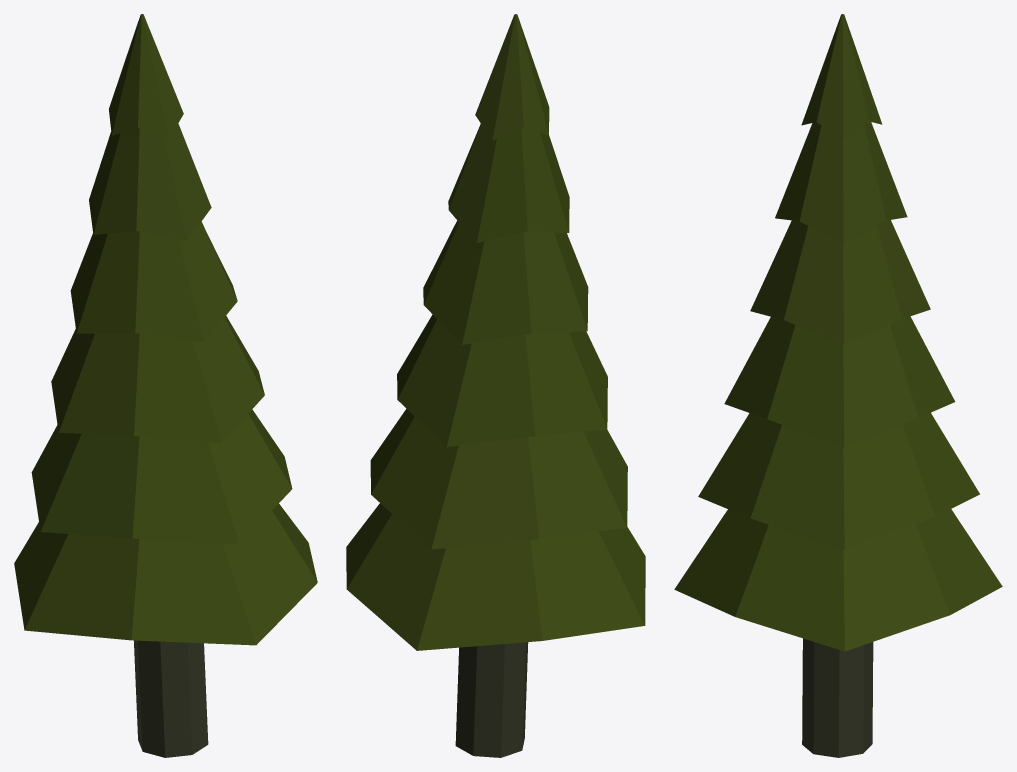
The model's file is tree3.gltf.
The picture shows the model from 3 angles, left to right: view 1: azimuth 30°, elevation 25°; view 2: azimuth 150°, elevation 25°; view 3: azimuth 270°, elevation 25°; orthographic projection. The views are drawn at different scales.
Parts seen in each view (by area): view 1: SapinHiver.015_Cylinder.034; view 2: SapinHiver.015_Cylinder.034; view 3: SapinHiver.015_Cylinder.034.
Boxes of the visible parts, x1,y1,x2,y2 form: SapinHiver.015_Cylinder.034: (14, 14, 317, 757); SapinHiver.015_Cylinder.034: (346, 14, 645, 757); SapinHiver.015_Cylinder.034: (674, 14, 1002, 757).
Size of the model in its own units: 2.08 by 5.01 by 2.08.
